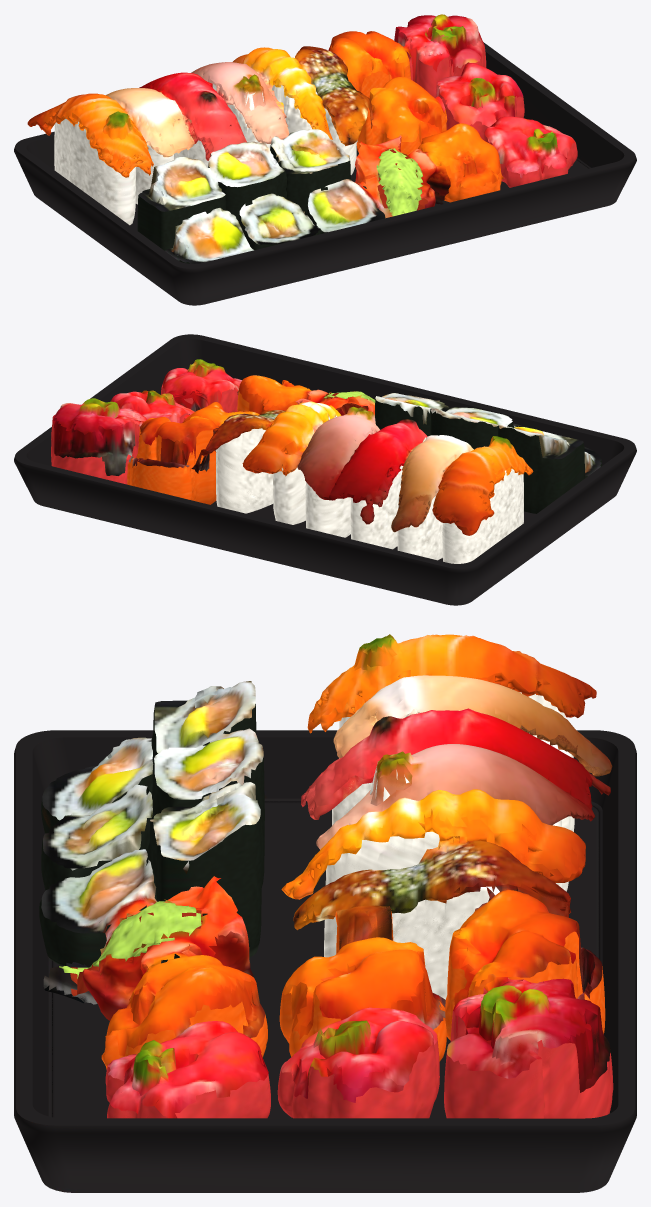
The model's file is sushi_platter.glb.
The picture shows the model from 3 angles, top to bottom: view 1: azimuth 30°, elevation 25°; view 2: azimuth 150°, elevation 25°; view 3: azimuth 270°, elevation 25°; orthographic projection. The views are drawn at different scales.
Parts seen in each view (by area): view 1: ing_base, ing_hosomaki, ing_atomic, ing_geisha, ing_syakeNigiri, ing_maguroNigiri, ing_hamachiNigiri, ing_unagiNigiri, ing_hotateNigiri, ing_ebiNigiri; view 2: ing_base, ing_atomic, ing_hosomaki, ing_geisha, ing_syakeNigiri, ing_maguroNigiri, ing_hamachiNigiri, ing_hotateNigiri, ing_ebiNigiri, ing_unagiNigiri; view 3: ing_base, ing_atomic, ing_hosomaki, ing_geisha, ing_unagiNigiri, ing_ebiNigiri, ing_maguroNigiri, ing_syakeNigiri, ing_hamachiNigiri, ing_hotateNigiri.
Part boxes in pixels (bbox=[...]): ing_base: bbox=[14, 42, 636, 305]; ing_hosomaki: bbox=[137, 129, 385, 263]; ing_atomic: bbox=[394, 14, 577, 187]; ing_geisha: bbox=[328, 31, 503, 202]; ing_syakeNigiri: bbox=[27, 93, 153, 225]; ing_maguroNigiri: bbox=[139, 72, 246, 167]; ing_hamachiNigiri: bbox=[191, 62, 289, 149]; ing_unagiNigiri: bbox=[295, 46, 367, 174]; ing_hotateNigiri: bbox=[106, 88, 194, 204]; ing_ebiNigiri: bbox=[233, 47, 332, 139]; ing_base: bbox=[14, 334, 636, 605]; ing_atomic: bbox=[51, 359, 241, 484]; ing_hosomaki: bbox=[375, 393, 602, 513]; ing_geisha: bbox=[127, 375, 307, 504]; ing_syakeNigiri: bbox=[432, 436, 533, 563]; ing_maguroNigiri: bbox=[328, 419, 427, 549]; ing_hamachiNigiri: bbox=[297, 406, 379, 537]; ing_hotateNigiri: bbox=[391, 435, 473, 560]; ing_ebiNigiri: bbox=[242, 401, 341, 524]; ing_unagiNigiri: bbox=[191, 410, 285, 513]; ing_base: bbox=[14, 730, 636, 1192]; ing_atomic: bbox=[105, 977, 613, 1118]; ing_hosomaki: bbox=[39, 681, 264, 967]; ing_geisha: bbox=[101, 889, 605, 1069]; ing_unagiNigiri: bbox=[293, 836, 570, 999]; ing_ebiNigiri: bbox=[281, 789, 585, 899]; ing_maguroNigiri: bbox=[301, 708, 610, 891]; ing_syakeNigiri: bbox=[307, 634, 596, 758]; ing_hamachiNigiri: bbox=[316, 744, 595, 888]; ing_hotateNigiri: bbox=[333, 675, 612, 831].
Bounding box in the file's own units: 0.26 × 0.0631 × 0.1725.
1 material, 1 textured.
